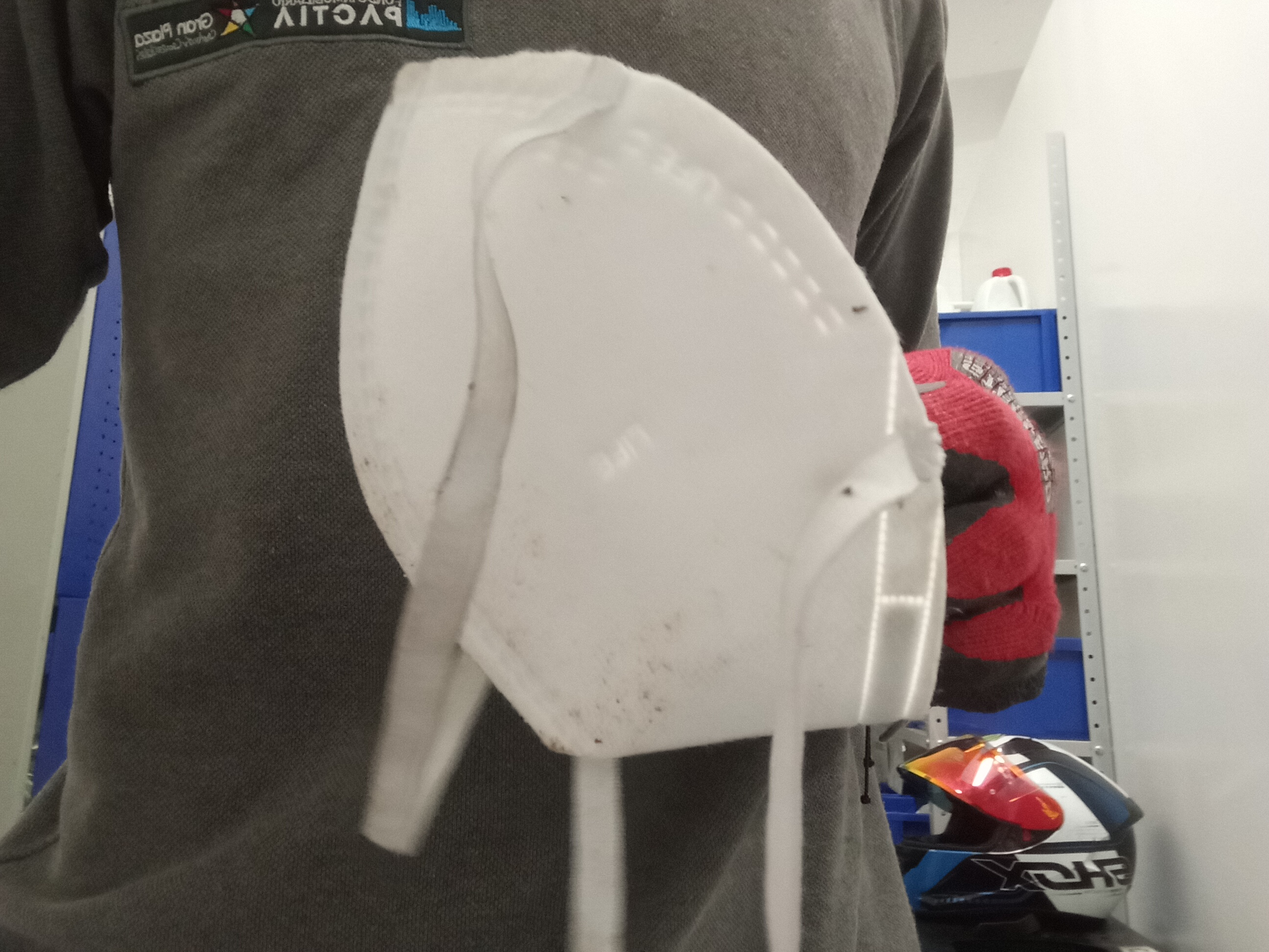Ordinario: (337, 49, 949, 854)
